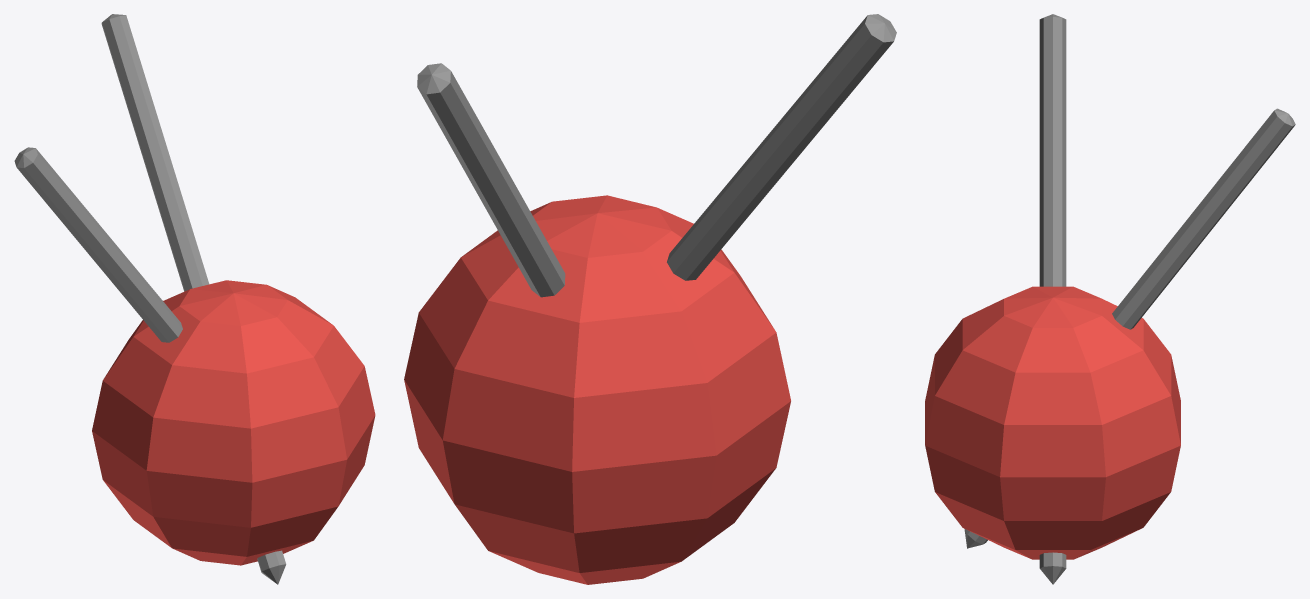
File: Yarn_Needle.fbx
3 renders of one model, left to right at view 1: azimuth 30°, elevation 25°; view 2: azimuth 150°, elevation 25°; view 3: azimuth 270°, elevation 25°, orthographic. The views are drawn at different scales.
Visible parts, largest first — view 1: Sphere; view 2: Sphere; view 3: Sphere.
Boxes of the visible parts, left/top/right/bottom form: Sphere: left=14, top=14, right=375, bottom=584; Sphere: left=404, top=14, right=896, bottom=584; Sphere: left=925, top=14, right=1295, bottom=584.
Bounding box in the file's own units: 134 × 175 × 134.
